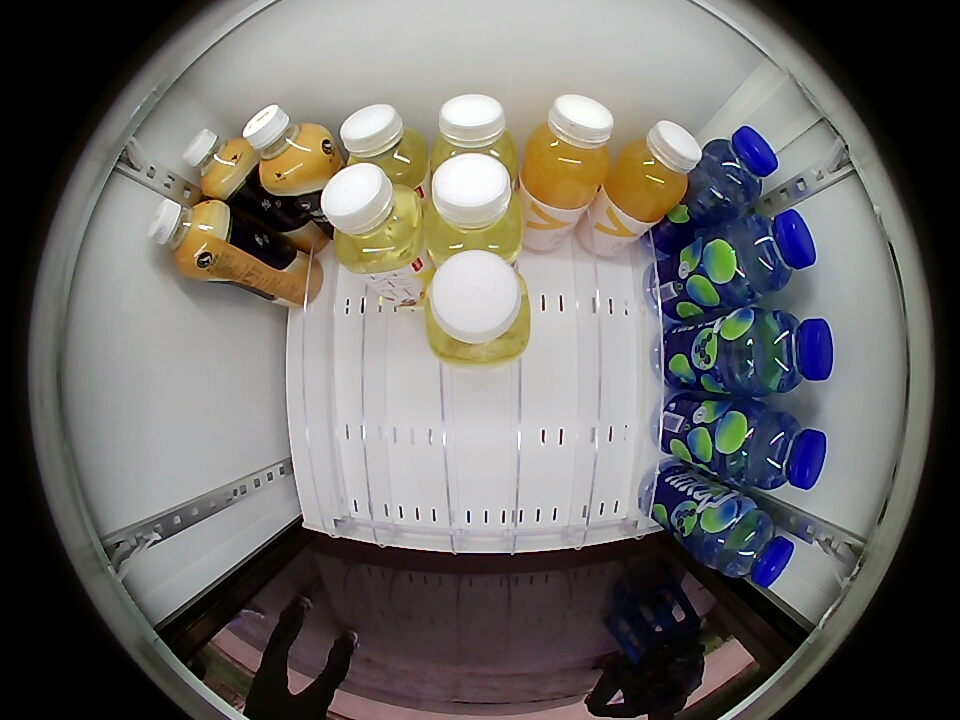asamu: (243, 104, 329, 184), (148, 197, 226, 273), (183, 129, 252, 196)
chapai2: (424, 250, 531, 366), (322, 163, 424, 273), (426, 152, 523, 266), (340, 104, 429, 187), (432, 94, 517, 177)
maidong: (710, 209, 818, 302), (726, 407, 828, 492), (738, 310, 834, 394), (704, 503, 796, 588), (696, 126, 779, 213)
weic: (520, 94, 615, 211), (605, 121, 703, 223)
